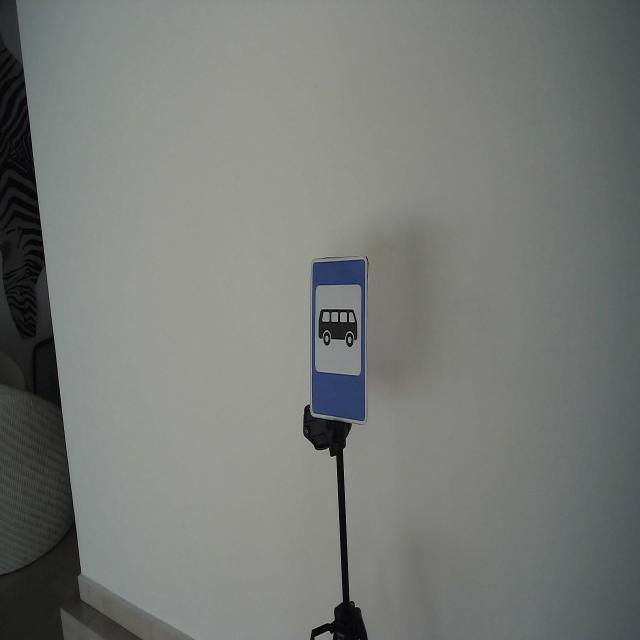bus_stop: (308, 254, 369, 427)
